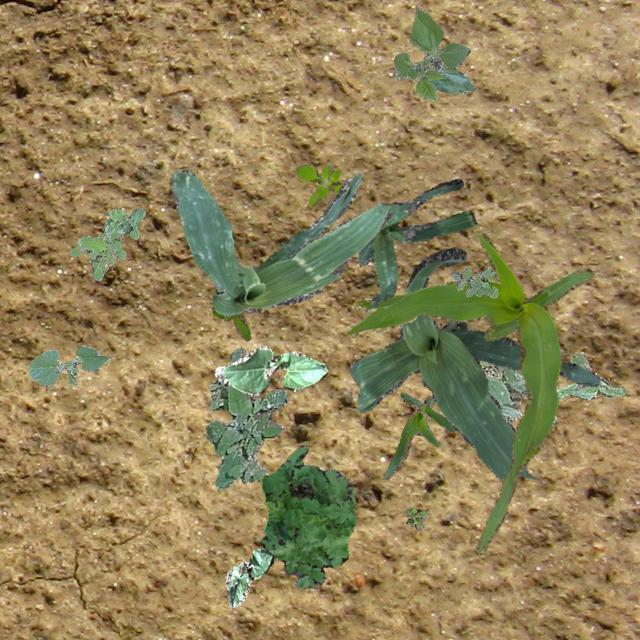crop: (346, 232, 592, 552), (348, 248, 598, 478), (170, 168, 388, 316), (356, 178, 476, 308), (392, 6, 474, 100), (382, 392, 454, 478), (214, 346, 326, 394), (28, 344, 110, 386), (225, 548, 272, 608)
weed: (260, 443, 356, 588), (206, 346, 286, 488), (478, 352, 628, 422), (68, 207, 144, 280), (294, 163, 342, 204), (450, 266, 498, 298), (212, 306, 250, 339), (402, 506, 428, 530)
